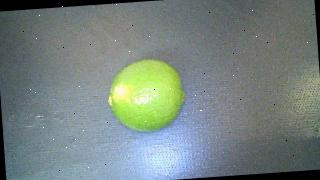EXPORTACION: (105, 56, 187, 134)
